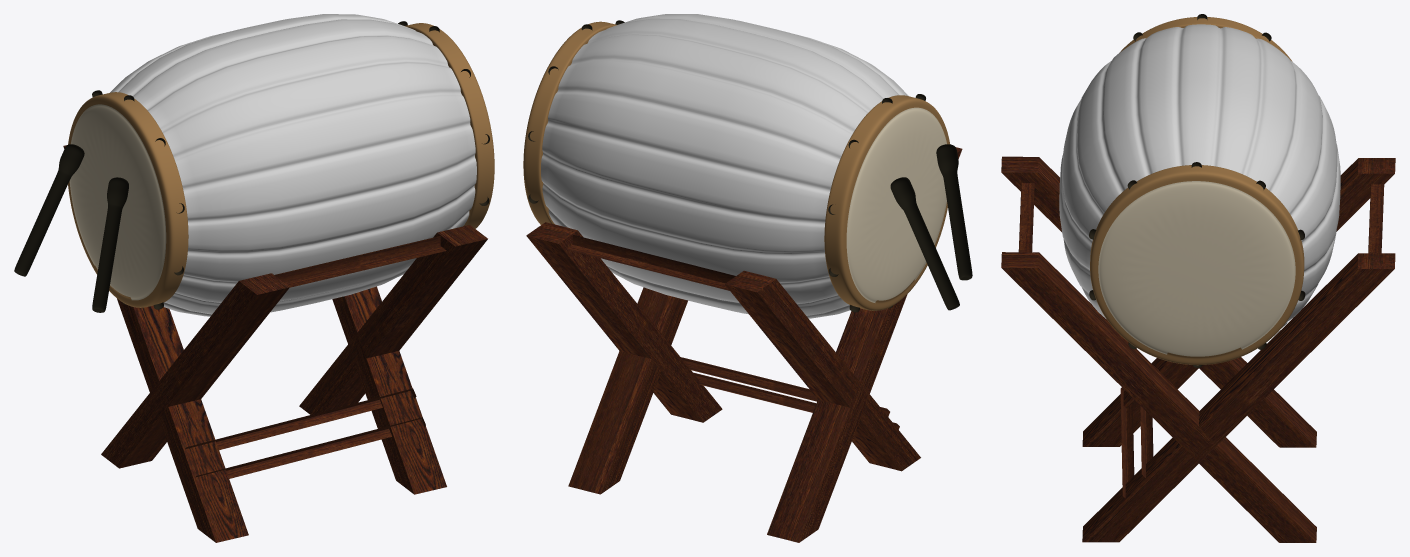
Rendered from SM_Tamboo 1_03.fbx.
3 renders of one model, left to right at view 1: azimuth 30°, elevation 25°; view 2: azimuth 150°, elevation 25°; view 3: azimuth 270°, elevation 25°, orthographic.
Visible parts, largest first — view 1: Penutup tambo; view 2: Penutup tambo; view 3: Penutup tambo.
Part boxes in pixels (bbox=[...]): Penutup tambo: bbox=[14, 14, 494, 542]; Penutup tambo: bbox=[523, 14, 972, 542]; Penutup tambo: bbox=[1001, 14, 1395, 542].
Bounding box in the file's own units: 246 × 248 × 208.
